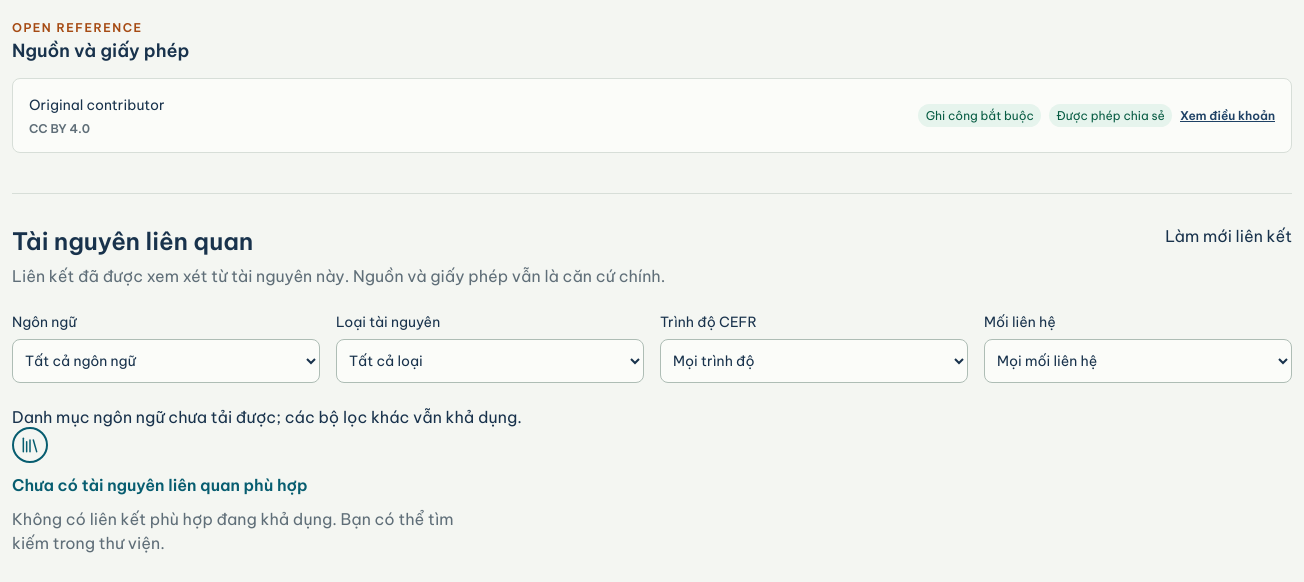
resets related filters when navigating to another anchor
(page scrolled)
Select "B1" in the dropdown labelled "Trình độ CEFR" at (814, 361), box [660,339,968,383]
(page scrolled)
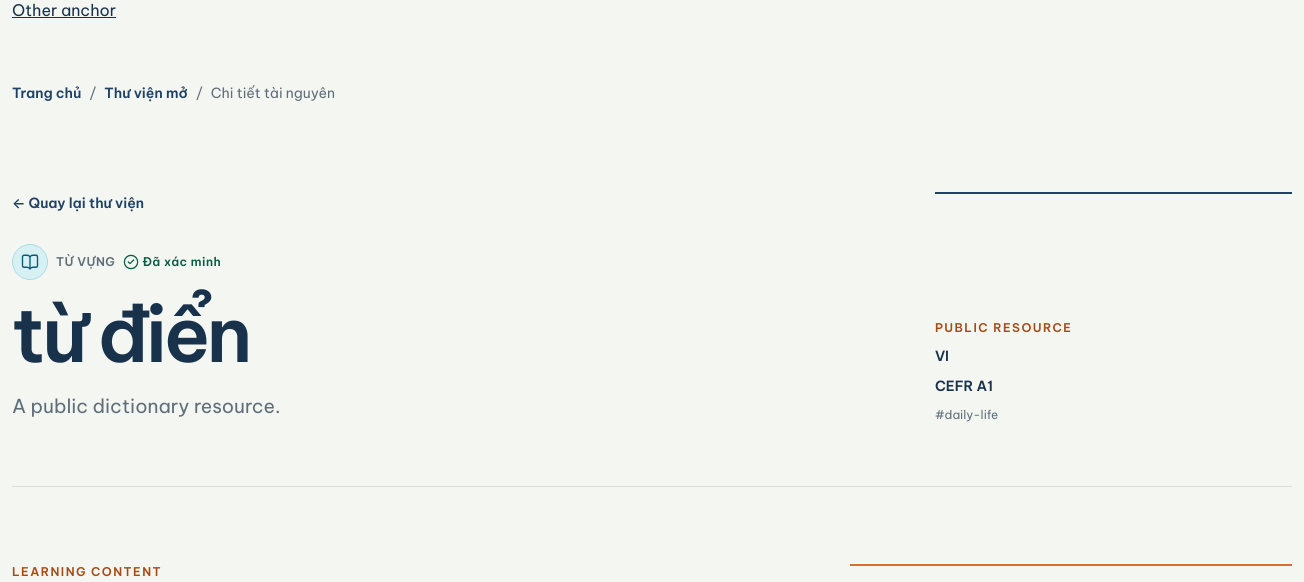
Click the link "Other anchor" at (64, 10), box [12,0,116,20]
(page scrolled)
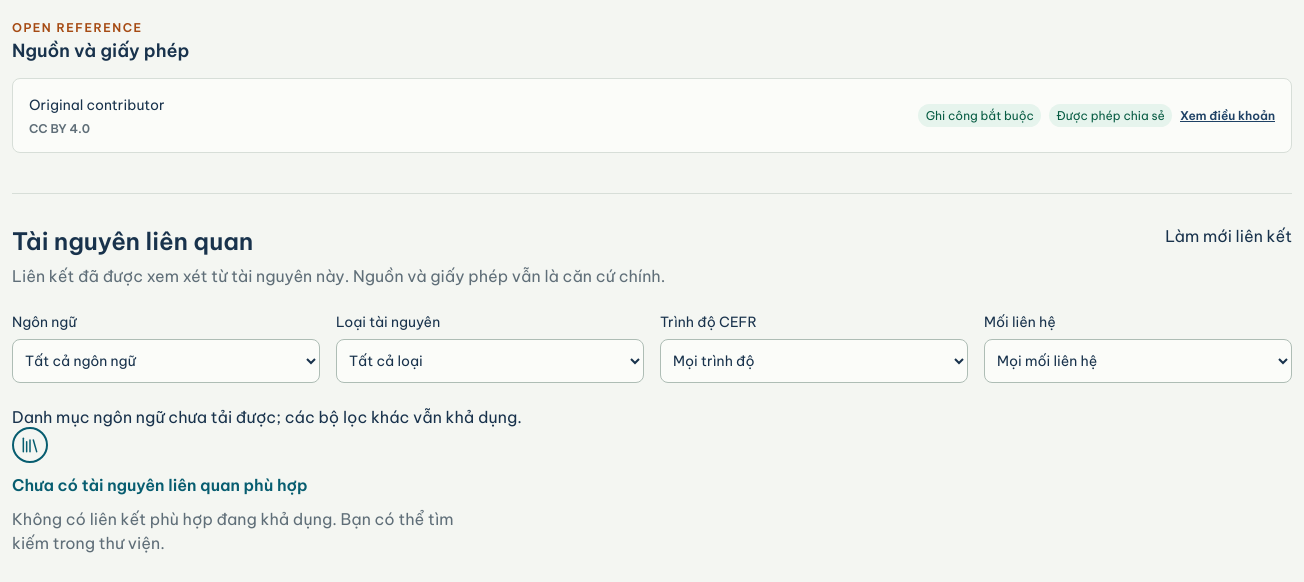
Now the dropdown labelled "Trình độ CEFR" shows "Mọi trình độ", box [660,339,968,383]
